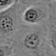cell: (27, 27, 40, 40), (36, 1, 50, 11), (39, 16, 51, 27), (13, 24, 24, 35), (5, 38, 16, 49), (5, 16, 14, 29), (25, 11, 35, 22)
